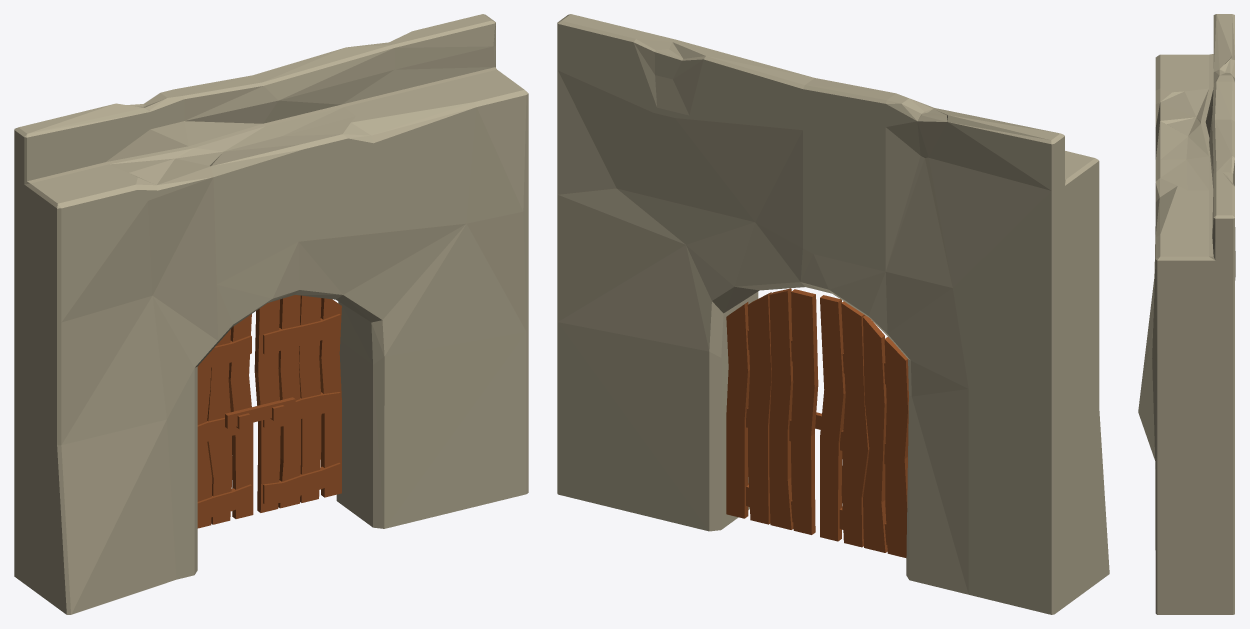
File: Gate_big.fbx
The picture shows the model from 3 angles, left to right: view 1: azimuth 30°, elevation 25°; view 2: azimuth 150°, elevation 25°; view 3: azimuth 270°, elevation 25°; orthographic projection. The views are drawn at different scales.
Visible parts, largest first — view 1: Gate_big, Door_big_R, Door_big_L, Door_lock; view 2: Gate_big, Door_big_R, Door_big_L; view 3: Gate_big.
Boxes of the visible parts, x1,y1,x2,y2 form: Gate_big: [14, 14, 528, 614]; Door_big_R: [254, 295, 341, 512]; Door_big_L: [197, 314, 253, 528]; Door_lock: [225, 397, 295, 428]; Gate_big: [557, 14, 1109, 614]; Door_big_R: [726, 288, 818, 534]; Door_big_L: [820, 295, 908, 557]; Gate_big: [1138, 14, 1235, 614].
Bounding box in the file's own units: 7.15 × 6.5 × 1.44.
